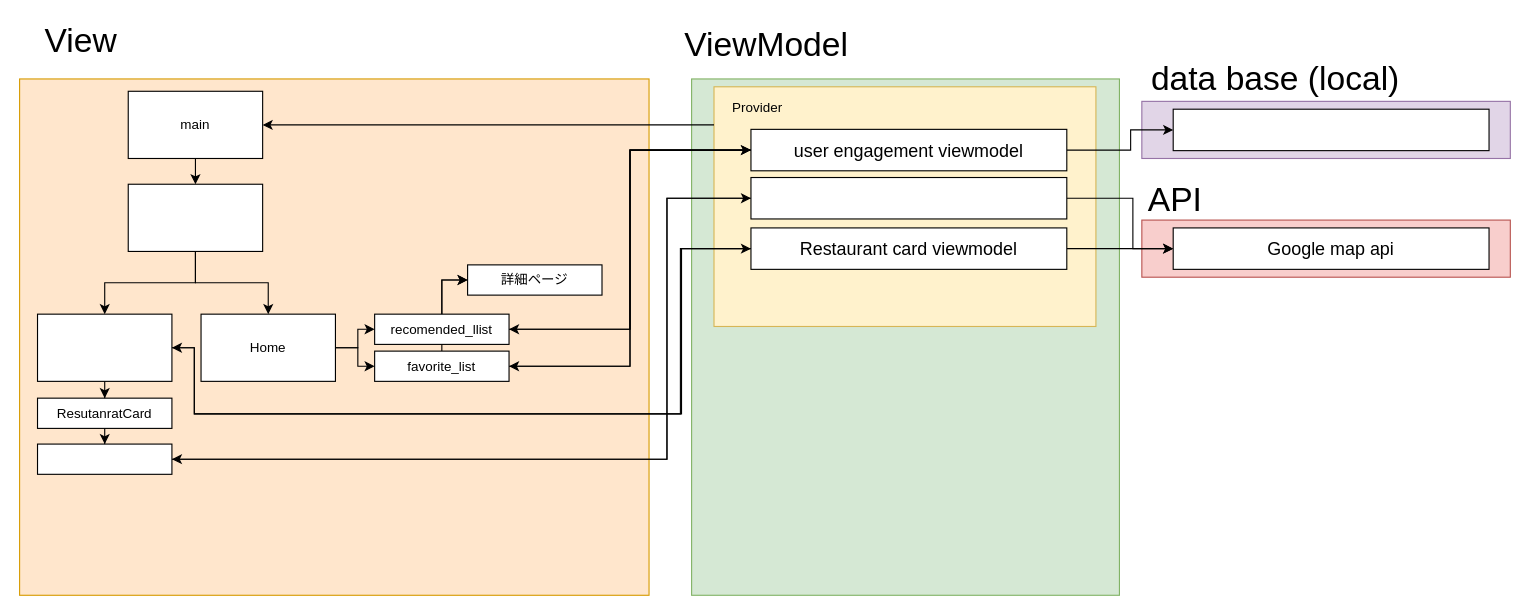
This 1530x615 diagram has some shape labels left out. The centre of each missing label's shape, as x and y in pixels:
map表示: the point at 104,458
Search: the point at 104,347
tab_page: the point at 195,217
user location viewmodel: the point at 908,197
user_engagement.db: the point at 1330,129
